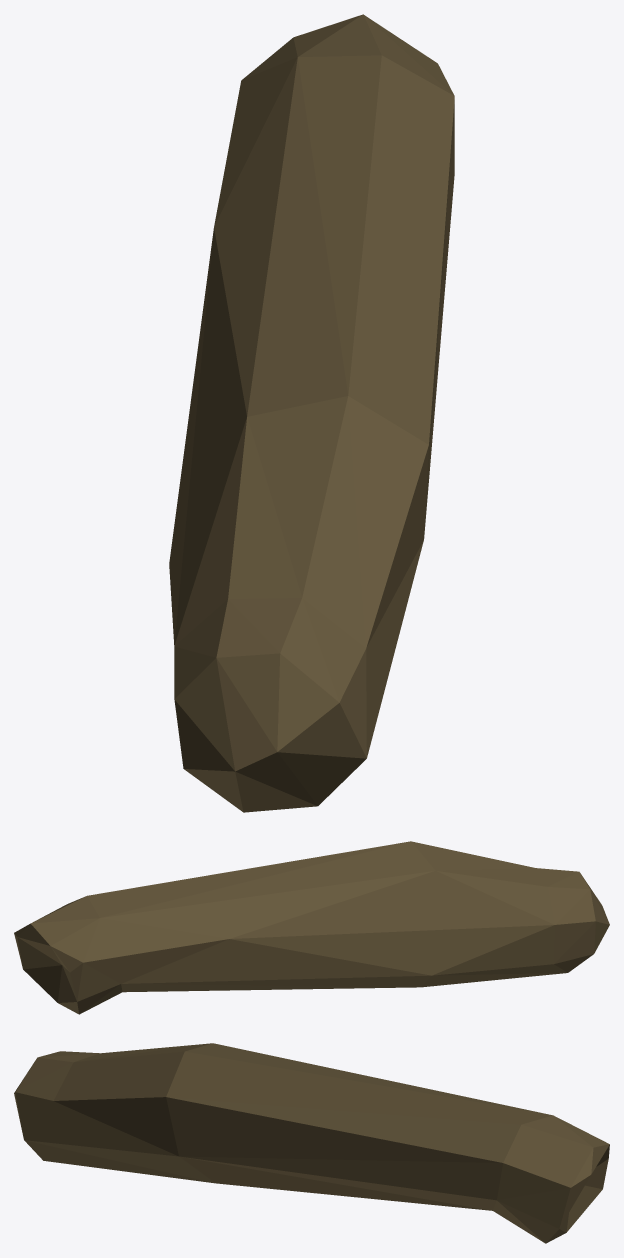
File: ant-femur-front-right.dae
The picture shows the model from 3 angles, top to bottom: view 1: azimuth 30°, elevation 25°; view 2: azimuth 150°, elevation 25°; view 3: azimuth 270°, elevation 25°; orthographic projection. The views are drawn at different scales.
Parts seen in each view (by area): view 1: ant-femur-front-right; view 2: ant-femur-front-right; view 3: ant-femur-front-right.
Part boxes in pixels (box(x1,y1,x2,y2)): ant-femur-front-right: box(169, 14, 454, 812); ant-femur-front-right: box(14, 841, 609, 1014); ant-femur-front-right: box(14, 1043, 609, 1243).
Size of the model in its own units: 2.51 by 3.32 by 1.08.
